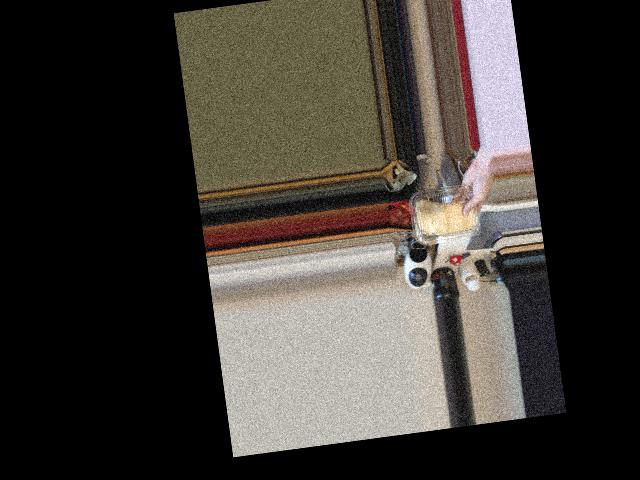cheese: (412, 180, 480, 251)
